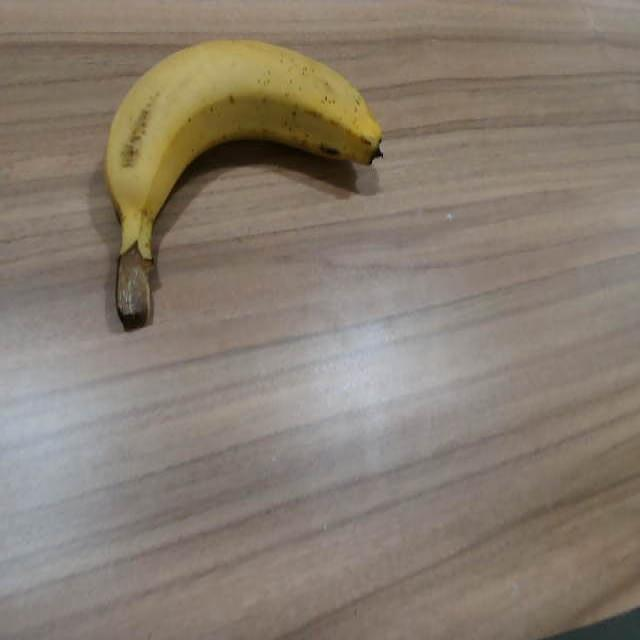Ripe: (88, 15, 406, 347)
